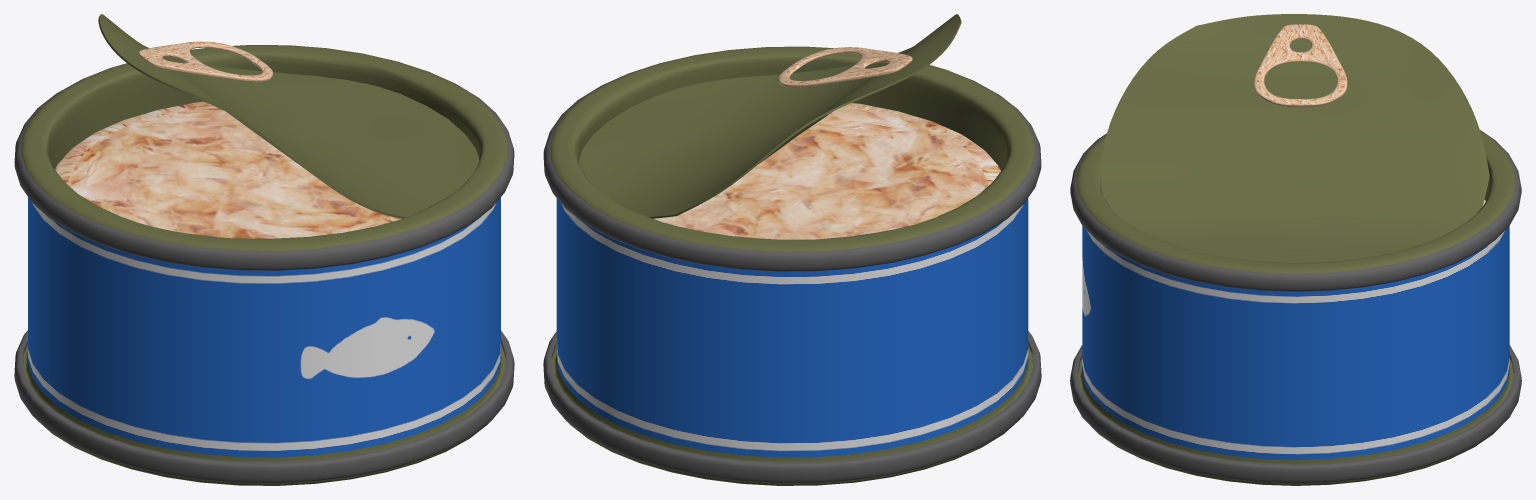
File: kaifuku.fbx
3 views of the same model, side by side, from view 1: azimuth 30°, elevation 25°; view 2: azimuth 150°, elevation 25°; view 3: azimuth 270°, elevation 25° (orthographic). The views are drawn at different scales.
Parts seen in each view (by area): view 1: pCylinder9, pCylinder7, pCylinder10, pDisc1, pCylinder11, pPlane4; view 2: pCylinder9, pCylinder7, pCylinder10, pDisc1, pCylinder11, pPlane4; view 3: pDisc1, pCylinder9, pCylinder11, pCylinder7, pPlane4.
Part boxes in pixels (bbox=[...]): pCylinder9: bbox=[28, 197, 500, 457]; pCylinder7: bbox=[21, 45, 507, 485]; pCylinder10: bbox=[55, 101, 401, 238]; pDisc1: bbox=[98, 14, 479, 218]; pCylinder11: bbox=[14, 61, 514, 483]; pPlane4: bbox=[138, 41, 273, 81]; pCylinder9: bbox=[556, 198, 1028, 457]; pCylinder7: bbox=[550, 46, 1034, 485]; pCylinder10: bbox=[653, 103, 1000, 239]; pDisc1: bbox=[579, 14, 961, 218]; pCylinder11: bbox=[543, 65, 1041, 483]; pPlane4: bbox=[778, 47, 912, 87]; pDisc1: bbox=[1100, 14, 1489, 262]; pCylinder9: bbox=[1082, 226, 1509, 460]; pCylinder11: bbox=[1070, 130, 1521, 483]; pCylinder7: bbox=[1076, 131, 1515, 485]; pPlane4: bbox=[1254, 24, 1347, 106].
Size of the model in its own units: 8.59 by 6.7 by 8.58.
4 materials, 2 textured.
